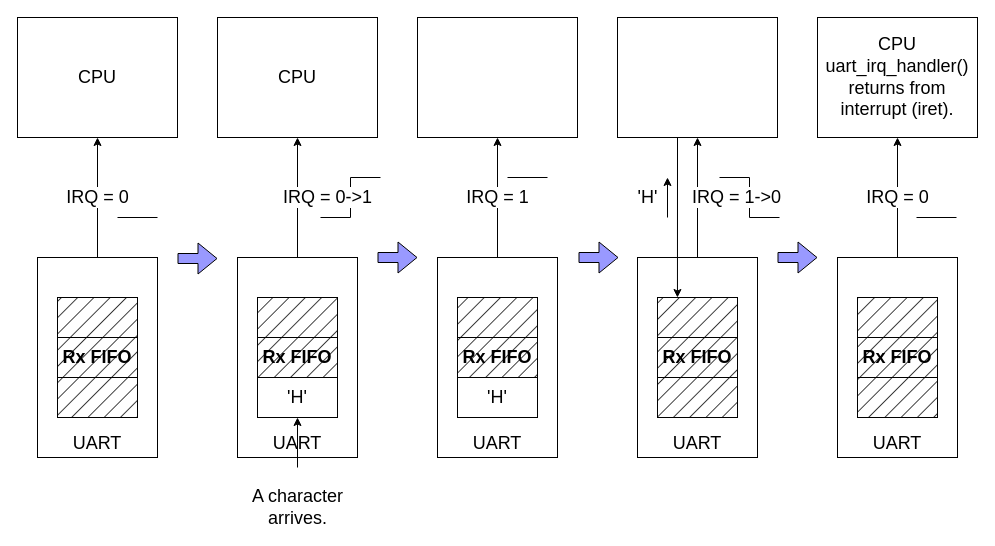
Image size: 995x546. Some labels were removed from this diagram. Each missing label, with the centre of its shape:
CPU enters uart_irq_handler().: point (497, 77)
CPU uart_irq_handler() reads character from FIFO.: point (697, 77)
